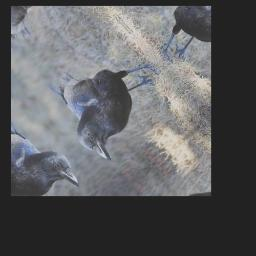Crow: (34, 27, 185, 167)
